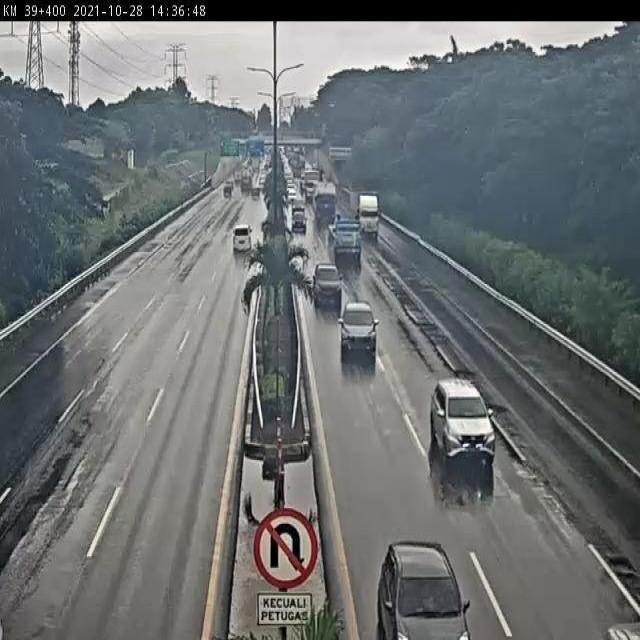big truck: (359, 196, 379, 235), (321, 184, 339, 216)
car: (379, 534, 472, 640), (428, 383, 500, 473), (336, 299, 383, 364), (326, 218, 362, 270), (313, 260, 339, 308), (236, 223, 266, 256), (289, 208, 308, 229)
